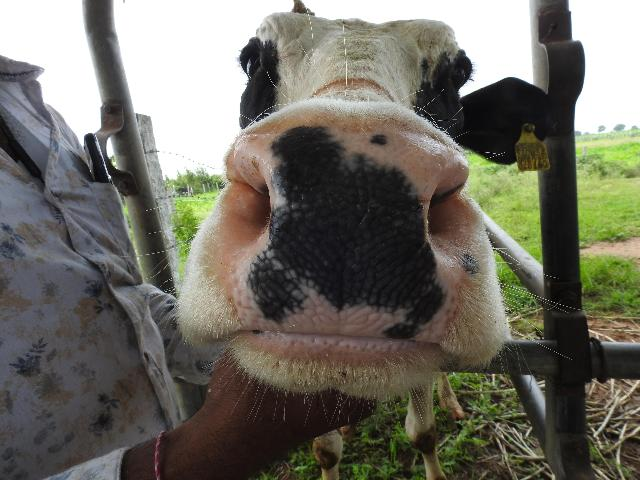Muzzle: (263, 139, 435, 332)
